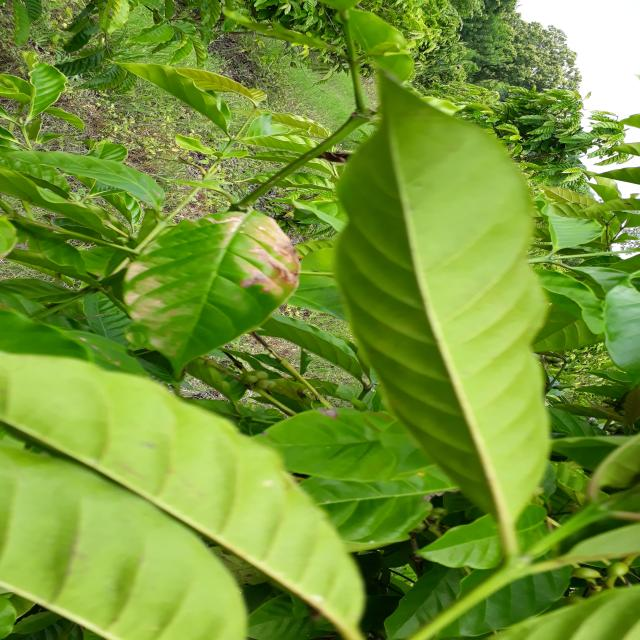Sanas: (333, 70, 552, 557)
